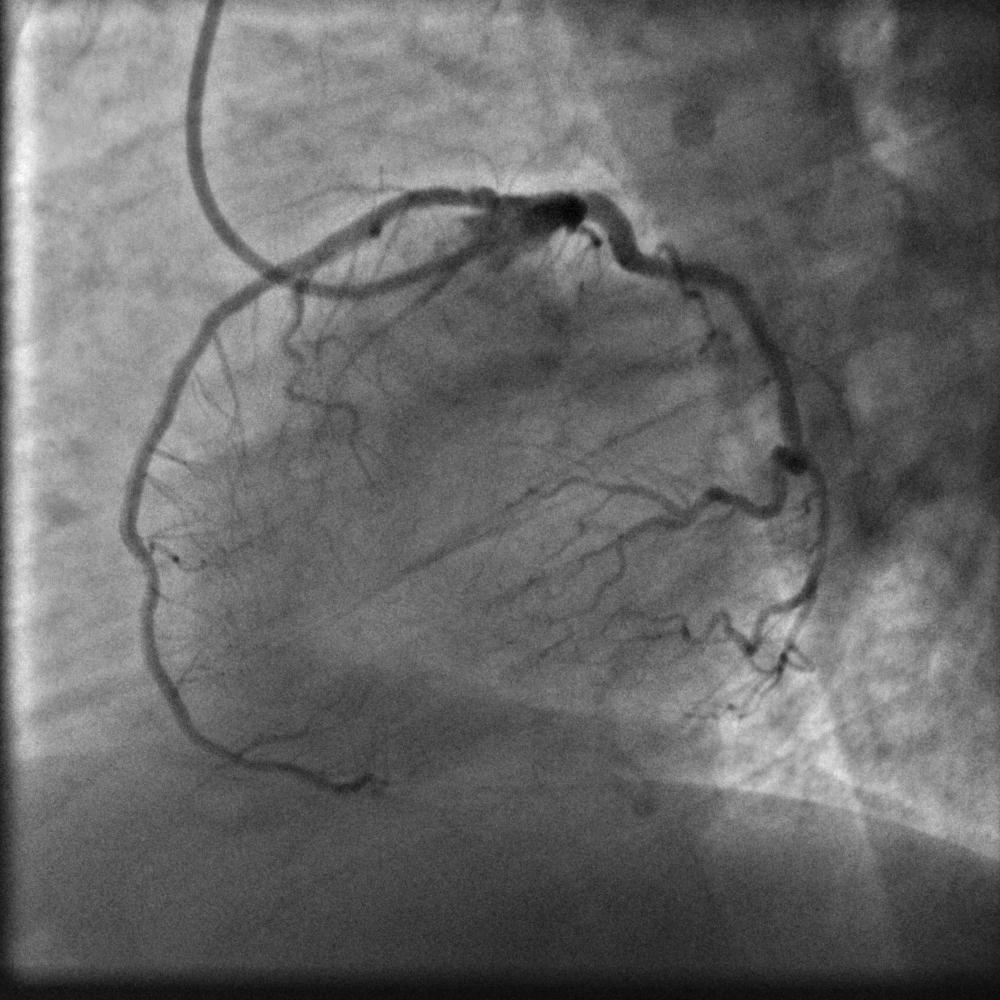Stenosis: (457, 182, 485, 210)
